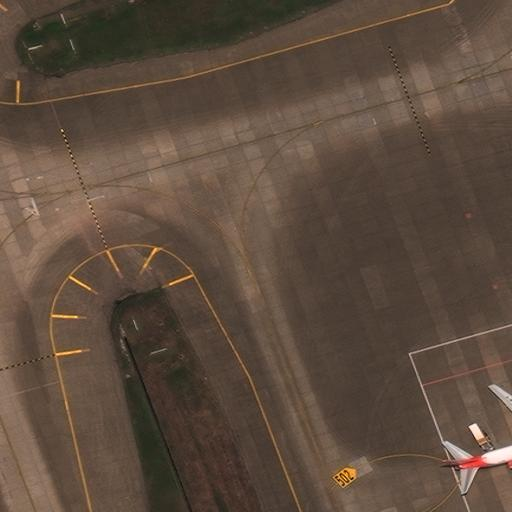Large Civil Transport: (454, 383, 512, 500)
